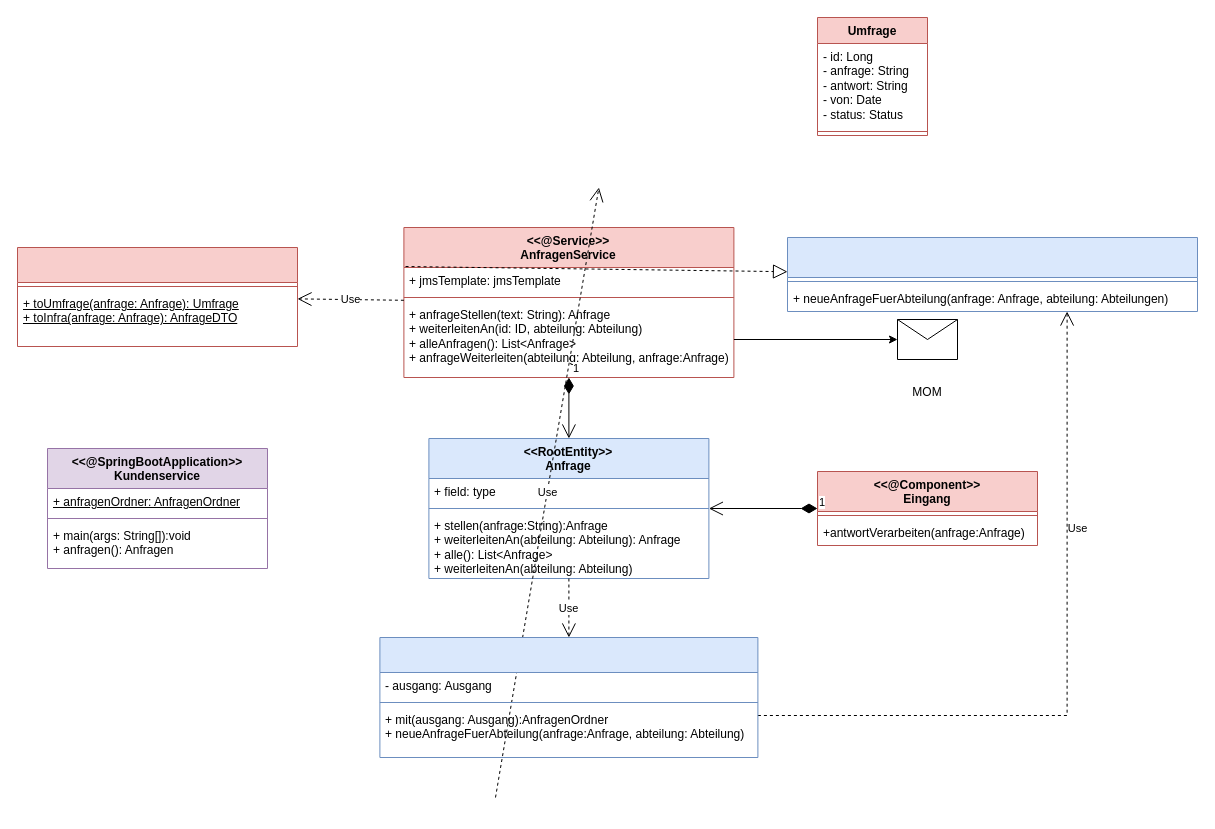
The diagram is 1215 pixels wide and 829 high, and some of its shapes have lost their labels. The box of each missing label's shape, as (x1, y1, x2, y2) in pixels:
<<Entity>> AnfragenBoard: (379, 636, 758, 758)
<<Messages>> Ausgang: (786, 236, 1198, 312)
<<Service>> Converter: (16, 246, 298, 346)
